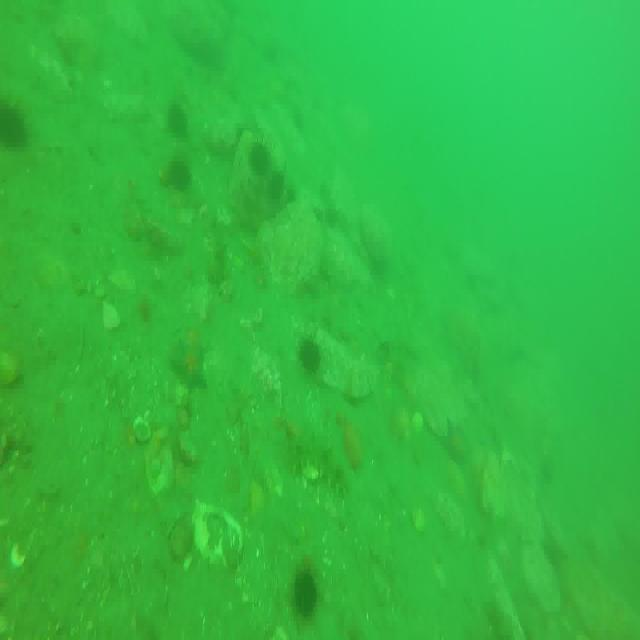echinus: (292, 560, 319, 620), (0, 95, 30, 143), (166, 155, 193, 189), (249, 139, 271, 177), (169, 100, 188, 142), (300, 336, 322, 366), (268, 168, 286, 200)
holothurian: (291, 429, 347, 494)
starfish: (174, 338, 206, 392)
